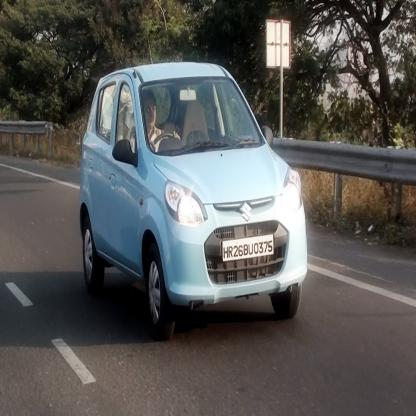license_plate: (222, 232, 274, 260)
